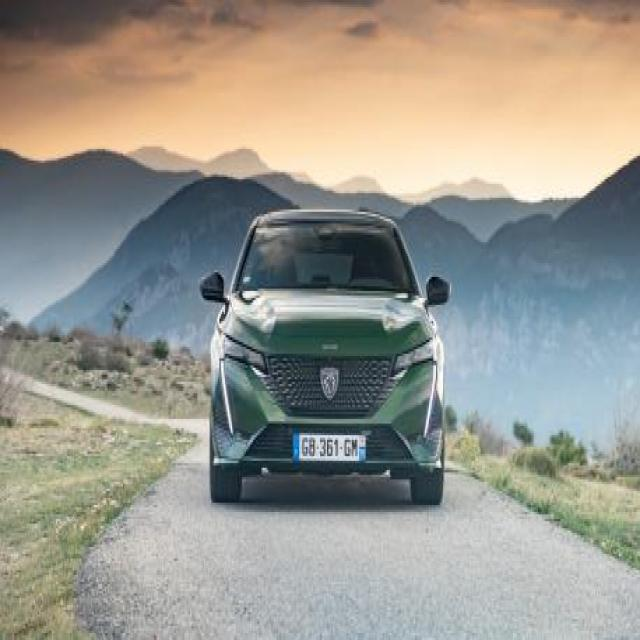yolov7-seg-car: (196, 204, 450, 505)
